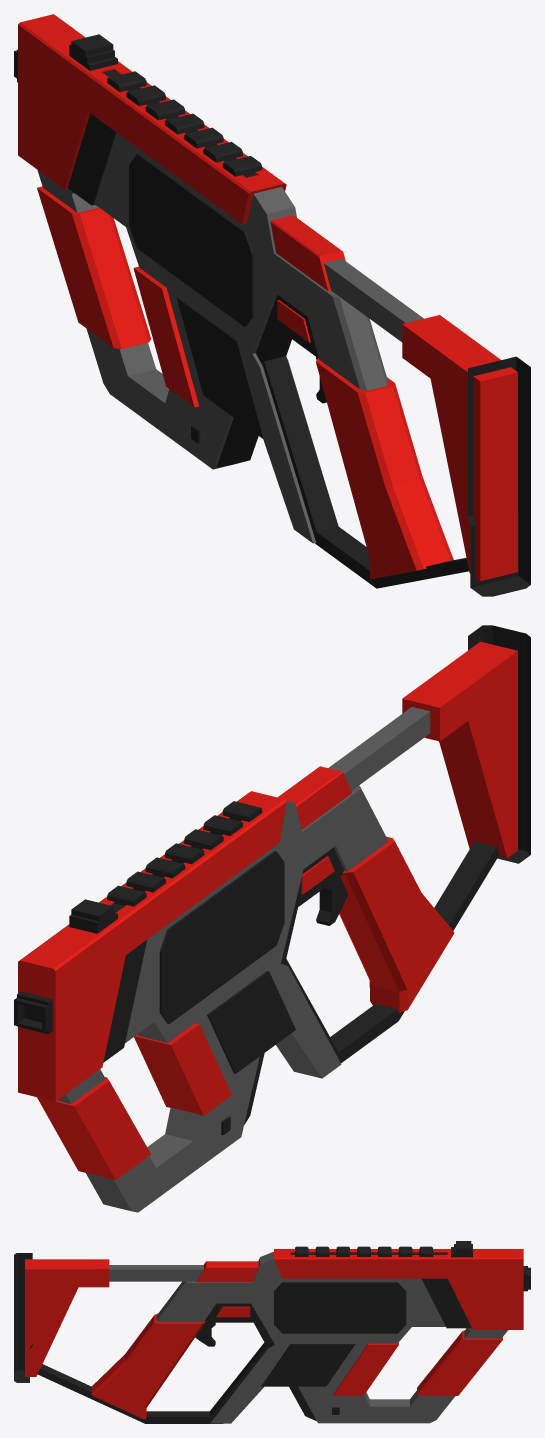
File: low poly gun.fbx
3 renders of one model, top to bottom at view 1: azimuth 30°, elevation 25°; view 2: azimuth 150°, elevation 25°; view 3: azimuth 270°, elevation 25°, orthographic. The views are drawn at different scales.
Parts seen in each view (by area): view 1: Cube.001, Cube, Cube.002, Cube.003, Cube.004, Cube.006, Cube.008; view 2: Cube.001, Cube, Cube.002, Cube.003, Cube.006, Cube.004, Cube.007, Cube.008, Cube.005; view 3: Cube.001, Cube, Cube.002, Cube.003, Cube.004, Cube.006, Cube.008, Cube.005.
Part boxes in pixels (x1,y1,x2,y2): Cube.001: (18,14,517,580); Cube: (37,132,423,543); Cube.002: (68,70,265,443); Cube.003: (217,295,468,588); Cube.004: (468,356,530,596); Cube.006: (107,71,262,176); Cube.008: (69,34,117,70); Cube.001: (18,641,517,1179); Cube: (57,707,430,1212); Cube.002: (103,851,295,1135); Cube.003: (244,841,498,1125); Cube.006: (107,801,262,906); Cube.004: (468,625,530,863); Cube.007: (14,991,52,1034); Cube.008: (69,899,117,933); Cube.005: (316,877,347,925); Cube.001: (25,1249,523,1419); Cube: (109,1251,508,1423); Cube.002: (261,1252,471,1414); Cube.003: (37,1303,316,1423); Cube.004: (14,1253,32,1382); Cube.006: (294,1246,433,1256); Cube.008: (451,1241,472,1257); Cube.005: (195,1322,215,1346).
Size of the model in its own units: 10.52 by 67.66 by 180.
